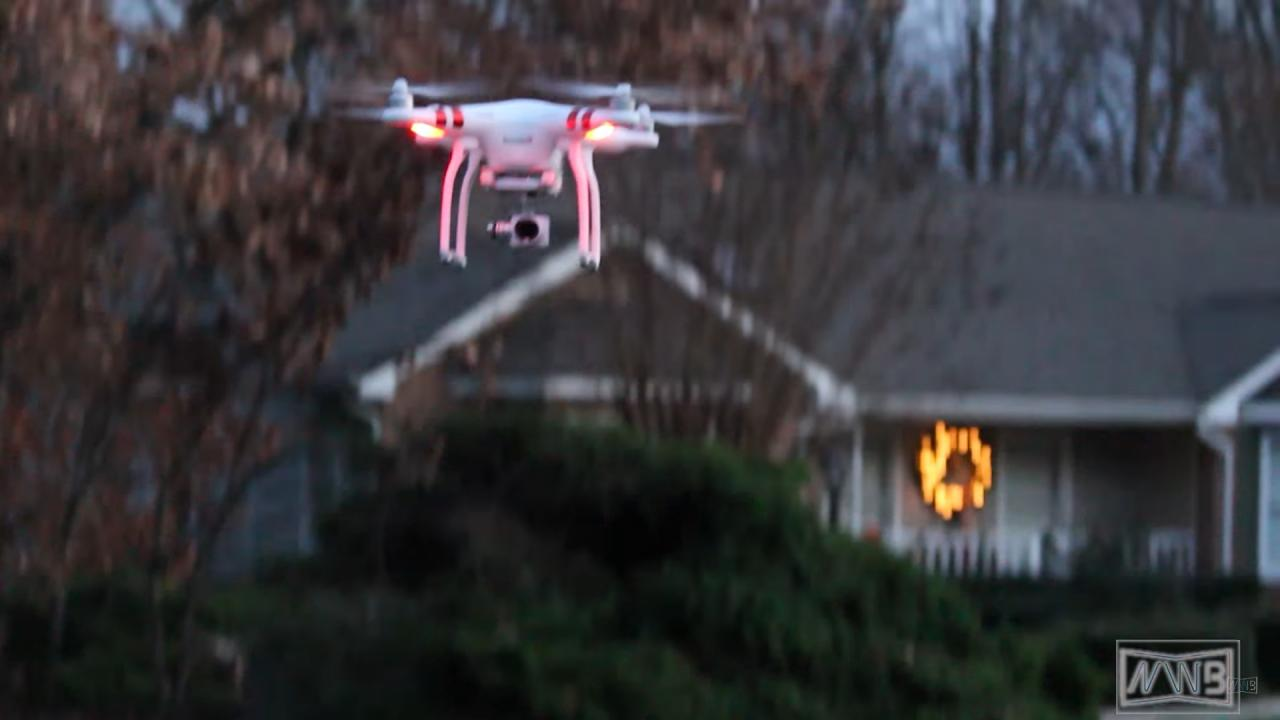Drone: (329, 68, 745, 280)
